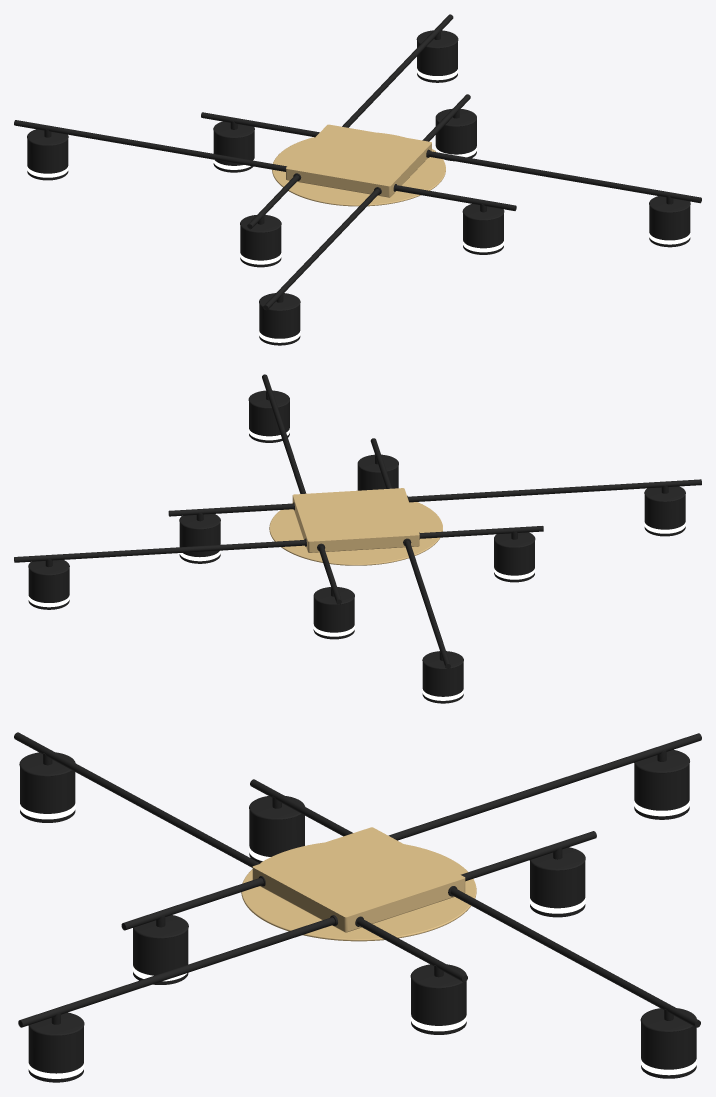
3 views of the same model, one above another, from view 1: azimuth 30°, elevation 25°; view 2: azimuth 150°, elevation 25°; view 3: azimuth 270°, elevation 25° (orthographic). The views are drawn at different scales.
Parts seen in each view (by area): view 1: frame, gold, gx53_band; view 2: frame, gold, gx53_band; view 3: frame, gold, gx53_band.
Part boxes in pixels (x1,y1,x2,y2): frame: [14, 14, 701, 345]; gold: [272, 124, 445, 206]; gx53_band: [27, 67, 690, 342]; frame: [14, 374, 701, 703]; gold: [269, 488, 442, 565]; gx53_band: [28, 427, 685, 700]; frame: [14, 732, 701, 1082]; gold: [241, 827, 476, 941]; gx53_band: [19, 799, 696, 1078].
Size of the model in its own units: 0.8751 by 0.095 by 0.8769.
